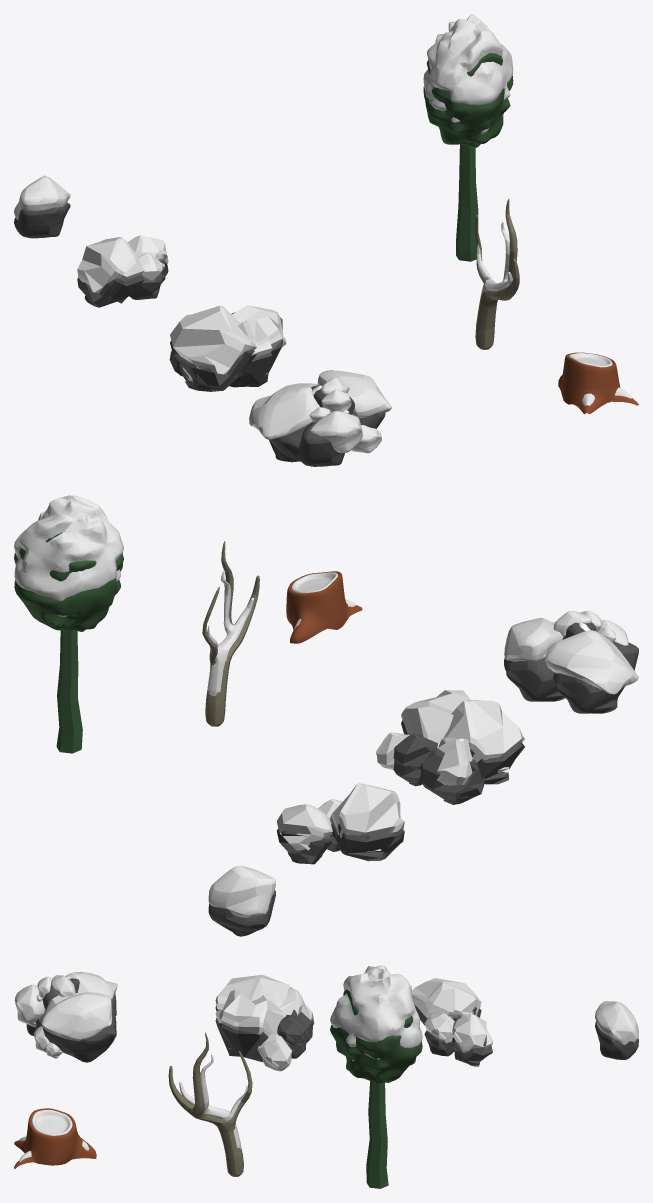
The model's file is SnowyObjects.fbx.
The picture shows the model from 3 angles, top to bottom: view 1: azimuth 30°, elevation 25°; view 2: azimuth 150°, elevation 25°; view 3: azimuth 270°, elevation 25°; orthographic projection. The views are drawn at different scales.
Parts seen in each view (by area): view 1: tree_2_lowpoly:pCube22.001, pPlatonic242.001, pPlatonic239, pPlatonic244, Cube.002, pCylinder1.001, pPlatonic241.001; view 2: tree_2_lowpoly:pCube22.001, pPlatonic239, pPlatonic242.001, pPlatonic244, pPlatonic241.001, Cube.002, pCylinder1.001; view 3: tree_2_lowpoly:pCube22.001, pPlatonic242.001, pPlatonic239, pPlatonic244, pCylinder1.001, Cube.002, pPlatonic241.001.
Boxes of the visible parts, left/top/right/bottom form: tree_2_lowpoly:pCube22.001: left=423, top=14, right=513, bottom=261; pPlatonic242.001: left=249, top=370, right=391, bottom=466; pPlatonic239: left=169, top=305, right=286, bottom=391; pPlatonic244: left=77, top=235, right=168, bottom=307; Cube.002: left=558, top=352, right=638, bottom=414; pCylinder1.001: left=474, top=198, right=519, bottom=349; pPlatonic241.001: left=14, top=175, right=70, bottom=238; tree_2_lowpoly:pCube22.001: left=14, top=495, right=123, bottom=753; pPlatonic239: left=376, top=690, right=524, bottom=804; pPlatonic242.001: left=504, top=610, right=638, bottom=713; pPlatonic244: left=277, top=783, right=404, bottom=864; pPlatonic241.001: left=208, top=866, right=275, bottom=936; Cube.002: left=286, top=571, right=362, bottom=643; pCylinder1.001: left=202, top=541, right=259, bottom=726; tree_2_lowpoly:pCube22.001: left=330, top=965, right=422, bottom=1188; pPlatonic242.001: left=14, top=972, right=117, bottom=1062; pPlatonic239: left=215, top=974, right=314, bottom=1071; pPlatonic244: left=412, top=978, right=492, bottom=1066; pCylinder1.001: left=168, top=1032, right=252, bottom=1176; Cube.002: left=14, top=1108, right=96, bottom=1168; pPlatonic241.001: left=595, top=1001, right=638, bottom=1059.
Bounding box in the file's own units: 947 × 560 × 1344.
